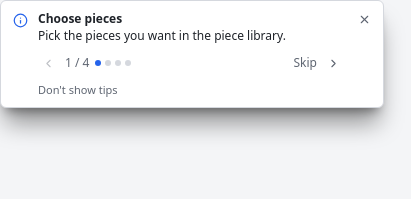
Test: HintToast › shows hints that want to appear together one after the other, in catalog order
Expected: the message with test id "hint-print-stage-intro" is shown, [0, 0, 384, 108]
Click the button named "Dismiss tip" at (364, 20), box [354, 9, 375, 30]
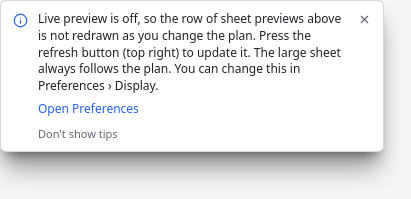
Now the message with test id "hint-print-stage-intro" is gone
Now the message with test id "hint-live-preview-sheets" is shown
